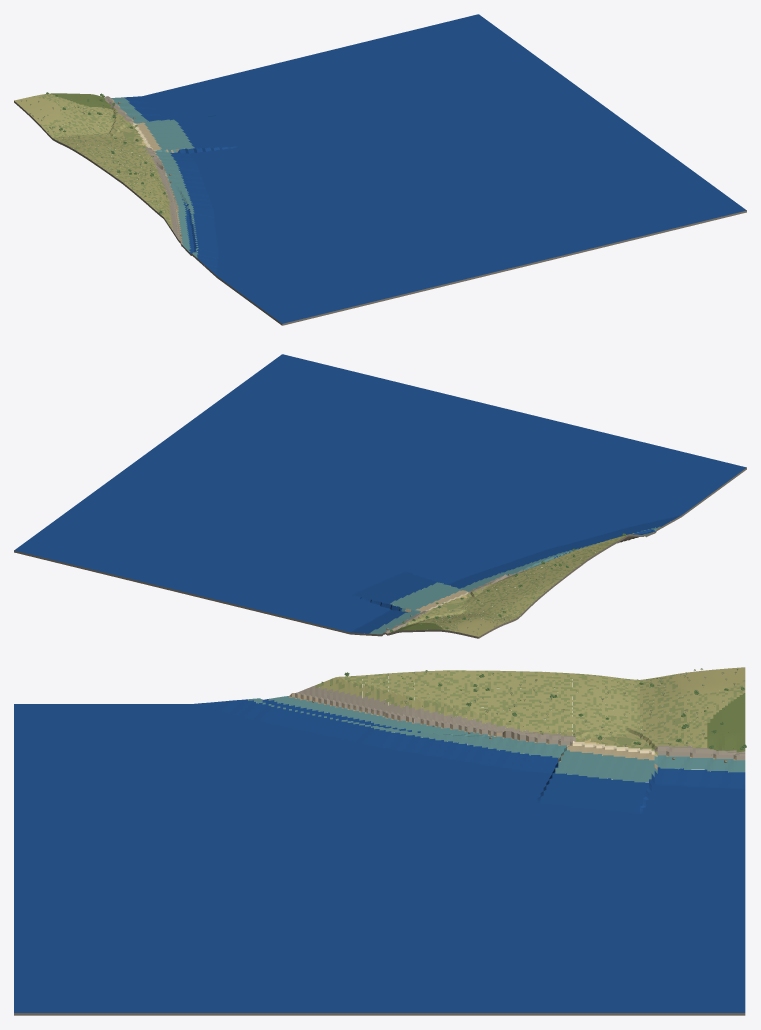
File: parca_+15_-4-yakin.glb
3 renders of one model, top to bottom at view 1: azimuth 30°, elevation 25°; view 2: azimuth 150°, elevation 25°; view 3: azimuth 270°, elevation 25°, orthographic. The views are drawn at different scales.
Parts seen in each view (by area): view 1: parca_+15_-4_arazi, parca_+15_-4_bitkiler; view 2: parca_+15_-4_arazi, parca_+15_-4_bitkiler; view 3: parca_+15_-4_arazi, parca_+15_-4_bitkiler.
Boxes of the visible parts, x1,y1,x2,y2 form: parca_+15_-4_arazi: (14,14,746,325); parca_+15_-4_bitkiler: (20,92,171,224); parca_+15_-4_arazi: (14,354,746,638); parca_+15_-4_bitkiler: (390,533,633,633); parca_+15_-4_arazi: (14,667,745,1015); parca_+15_-4_bitkiler: (321,668,746,749).
Bounding box in the file's own units: 1003 × 62.41 × 1002.
